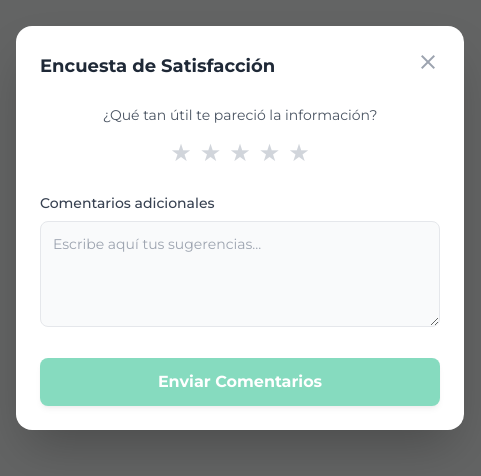
Test: SatisfactionSurveyModal Component › requires comment for low ratings
Click the button named "Calificar con 3 estrellas".
click(240, 153)  # box x1=229 y1=137 x2=251 y2=169
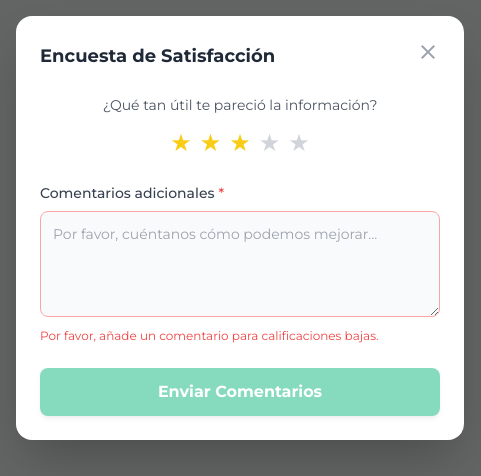
Expected: the button "Enviar Comentarios" is disabled, x1=40 y1=368 x2=440 y2=416
Expected: the text "Por favor, añade un comentario para calificaciones bajas." is shown, x1=40 y1=328 x2=379 y2=343
Type "Test comment" into the text box with placeholder "Por favor, cuéntanos cómo podemos mejorar...".
click(240, 264); type("Test comment")  # box x1=40 y1=211 x2=440 y2=317
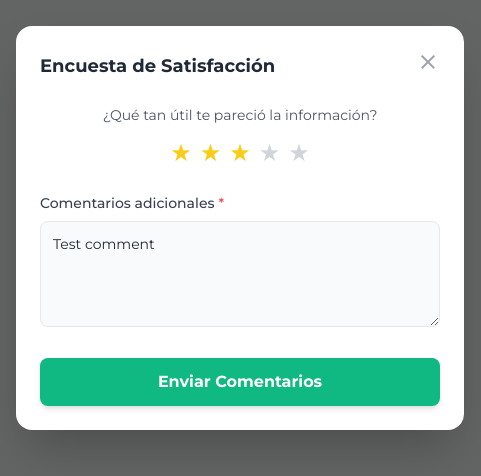
Expected: the button "Enviar Comentarios" is enabled, x1=40 y1=358 x2=440 y2=406
